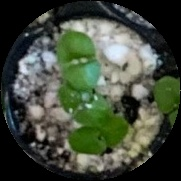Basil: (59, 30, 101, 90), (69, 114, 125, 154), (59, 87, 107, 125), (154, 77, 181, 130)
